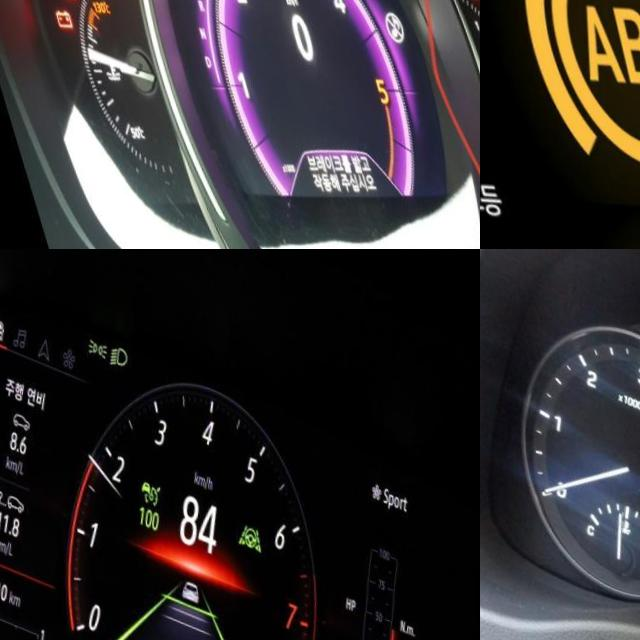LaneCenteringOff: (233, 502, 260, 535)
Low beam: (106, 331, 126, 360)
SideLamp: (84, 324, 106, 349)
